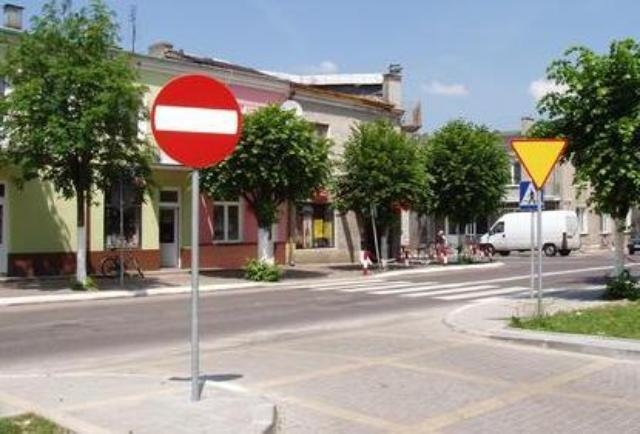B2: (147, 70, 245, 171)
